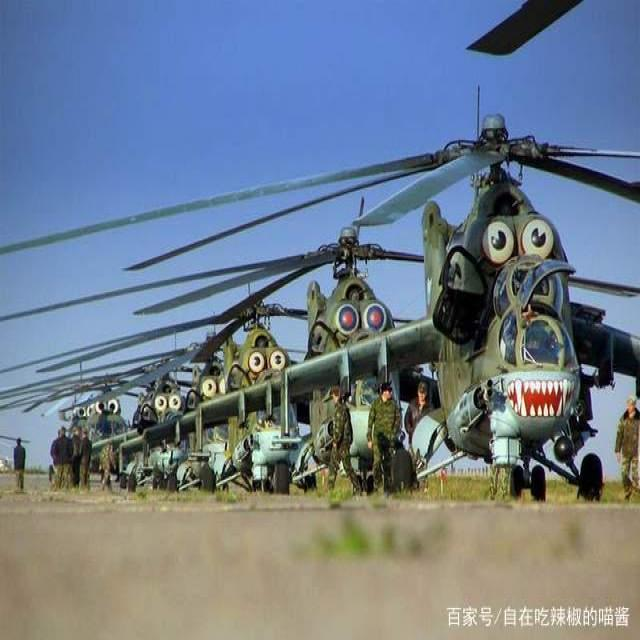MIL_HELO: (9, 101, 640, 516), (155, 213, 444, 494), (160, 270, 316, 485)
